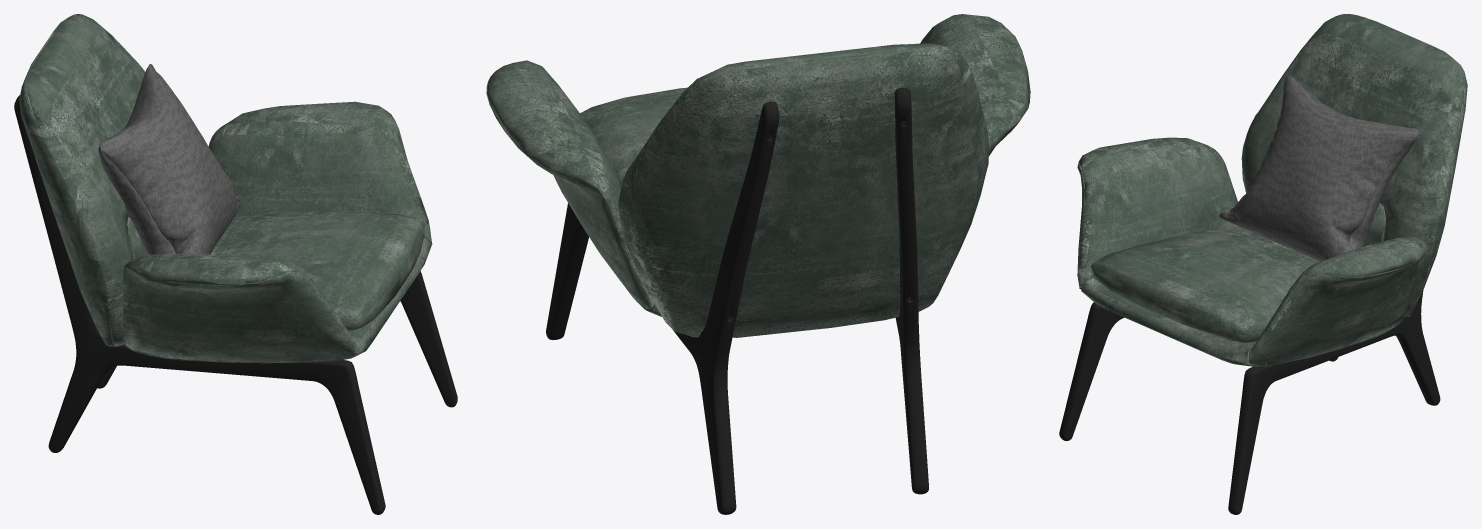
File: SillaDormitorio1.fbx
The picture shows the model from 3 angles, left to right: view 1: azimuth 30°, elevation 25°; view 2: azimuth 150°, elevation 25°; view 3: azimuth 270°, elevation 25°; orthographic projection. The views are drawn at different scales.
Visible parts, largest first — view 1: Group174_1_1, Group6_1_1, Group175_1_1, Group173_1_1; view 2: Group174_1_1, Group173_1_1, Group175_1_1; view 3: Group174_1_1, Group6_1_1, Group173_1_1, Group175_1_1.
Boxes of the visible parts, x1,y1,x2,y2 form: Group174_1_1: (19,14,432,363); Group6_1_1: (98,64,240,255); Group175_1_1: (14,95,385,514); Group173_1_1: (97,271,457,407); Group174_1_1: (486,14,1030,337); Group173_1_1: (546,101,779,514); Group175_1_1: (895,87,928,494); Group174_1_1: (1077,14,1467,367); Group6_1_1: (1219,75,1418,261); Group173_1_1: (1228,291,1440,514); Group175_1_1: (1059,302,1338,440).
Size of the model in its own units: 34.64 by 32.06 by 34.96.
